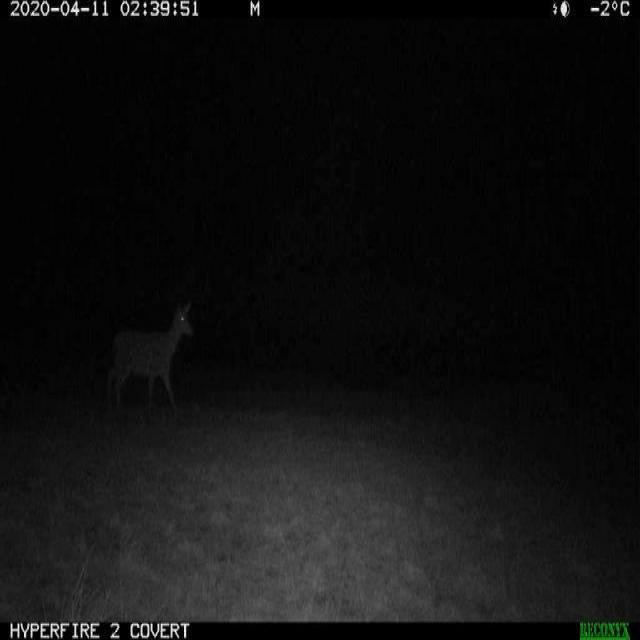deer: (104, 295, 199, 418)
